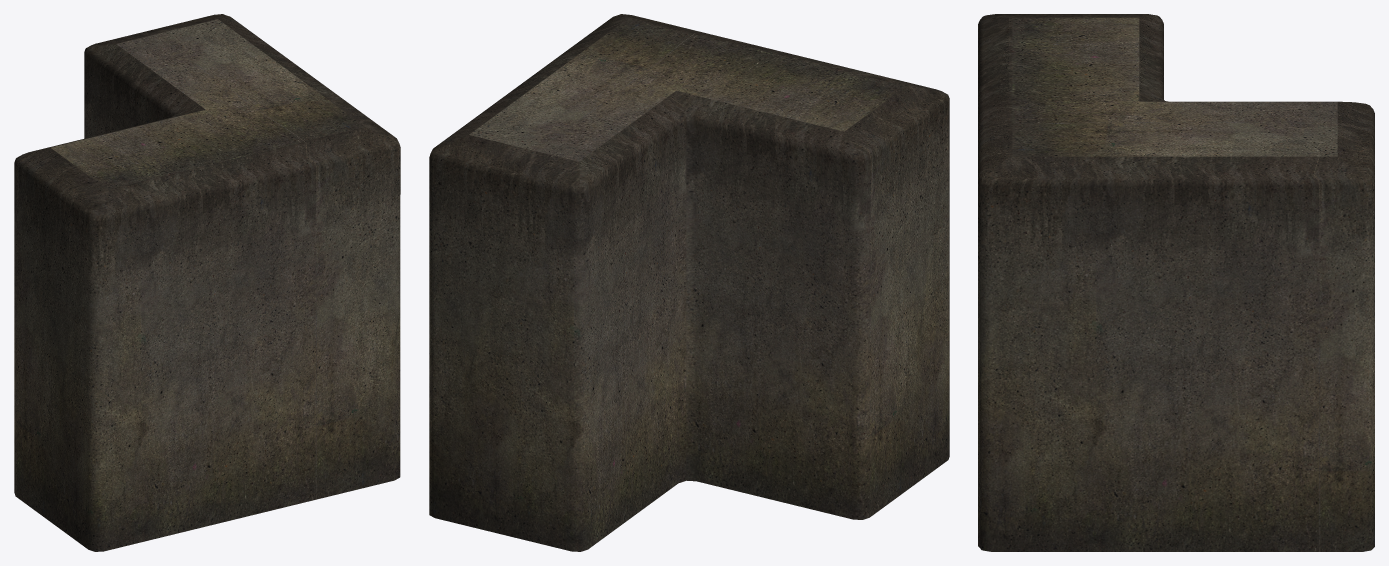
File: wall_base_cornerpillar.fbx
The picture shows the model from 3 angles, left to right: view 1: azimuth 30°, elevation 25°; view 2: azimuth 150°, elevation 25°; view 3: azimuth 270°, elevation 25°; orthographic projection. The views are drawn at different scales.
Parts seen in each view (by area): view 1: wall_base_cornerpillar; view 2: wall_base_cornerpillar; view 3: wall_base_cornerpillar.
Part boxes in pixels (left/top/right/bottom): wall_base_cornerpillar: left=14, top=14, right=400, bottom=551; wall_base_cornerpillar: left=429, top=14, right=949, bottom=551; wall_base_cornerpillar: left=978, top=14, right=1374, bottom=551.
Bounding box in the file's own units: 0.64 × 0.68 × 0.64.
